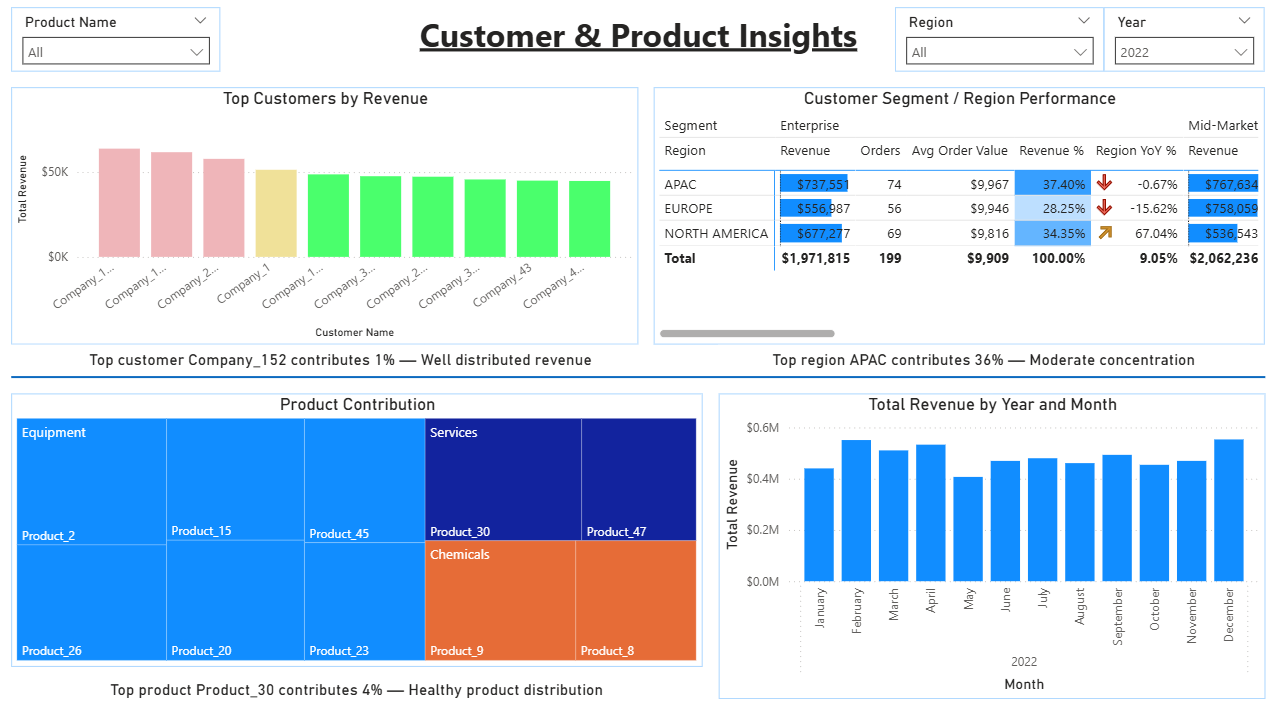

The page's visual inventory and layout, read from the dashboard file:
{"tool":"powerbi","page":{"name":"Customer & Product Insights","canvas":[1280,720],"ordinal":2},"visuals":[{"type":"textbox","box":[384,16,512,64],"z":0},{"type":"clusteredColumnChart","title":"Top Customers by Revenue","fields":{"Category":["Customers.Customer Name"],"Y":["Executive Summary Measures.Total Revenue"]},"box":[16,96,624,256],"z":1000},{"type":"slicer","fields":{"Values":["Customer Master.Standardized Region"]},"box":[896,16,208,64],"z":2000},{"type":"slicer","fields":{"Values":["Products.Product Name"]},"box":[16,16,208,64],"z":3000},{"type":"slicer","fields":{"Values":["Date.Year"]},"box":[1104,16,160,64],"z":4000},{"type":"card","fields":{"Values":["Customer & Product Insights Measures.Top Customer Insight"]},"box":[16,352,656,32],"z":5000},{"type":"treemap","title":"Product Contribution","fields":{"Group":["Products.Category","Products.Product Name"],"Details":["Products.Product Name"],"Values":["Executive Summary Measures.Total Revenue"]},"box":[16,400,688,272],"z":6000},{"type":"card","fields":{"Values":["Customer & Product Insights Measures.Product Insight"]},"box":[16,680,688,32],"z":7000},{"type":"pivotTable","title":"Customer Segment / Region Performance","fields":{"Rows":["Customer Master.Standardized Region"],"Columns":["Customers.Segment"],"Values":["Executive Summary Measures.Total Revenue","Executive Summary Measures.Total Orders","Customer & Product Insights Measures.Avg Order Value","Customer & Product Insights Measures.Revenue % by Region","Customer & Product Insights Measures.Region YoY %"]},"box":[656,96,608,256],"z":8000},{"type":"card","fields":{"Values":["Customer & Product Insights Measures.Region Insight"]},"box":[720,352,528,32],"z":9000},{"type":"columnChart","fields":{"Category":["Date.Full Date.Variation.Date Hierarchy.Year","Date.Full Date.Variation.Date Hierarchy.Month"],"Y":["Executive Summary Measures.Total Revenue"]},"box":[720,400,544,304],"z":10000},{"type":"shape","box":[16,368,1248,32],"z":11000}]}

Visuals, with their boxes in screenshot pixels (x1, y1, x2, y2), scaled from the page's 1280x720 canvas onto the 1276x707 screenshot:
textbox: l=383, t=16, r=893, b=79
"Top Customers by Revenue" clusteredColumnChart: l=16, t=94, r=638, b=346
slicer - Customer Master.Standardized Region: l=893, t=16, r=1101, b=79
slicer - Products.Product Name: l=16, t=16, r=223, b=79
slicer - Date.Year: l=1101, t=16, r=1260, b=79
card - Customer & Product Insights Measures.Top Customer Insight: l=16, t=346, r=670, b=377
"Product Contribution" treemap: l=16, t=393, r=702, b=660
card - Customer & Product Insights Measures.Product Insight: l=16, t=668, r=702, b=699
"Customer Segment / Region Performance" pivotTable: l=654, t=94, r=1260, b=346
card - Customer & Product Insights Measures.Region Insight: l=718, t=346, r=1244, b=377
columnChart - Date.Full Date.Variation.Date Hierarchy.Year x Date.Full Date.Variation.Date Hierarchy.Month: l=718, t=393, r=1260, b=691
shape: l=16, t=361, r=1260, b=393
